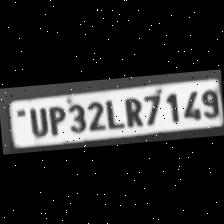1: (159, 90, 181, 124)
2: (84, 97, 106, 132)
3: (64, 100, 87, 134)
4: (178, 87, 202, 123)
7: (140, 92, 164, 128)
9: (196, 86, 220, 120)
L: (102, 96, 122, 130)
P: (44, 103, 67, 137)
R: (120, 94, 144, 129)
U: (24, 104, 48, 138)
